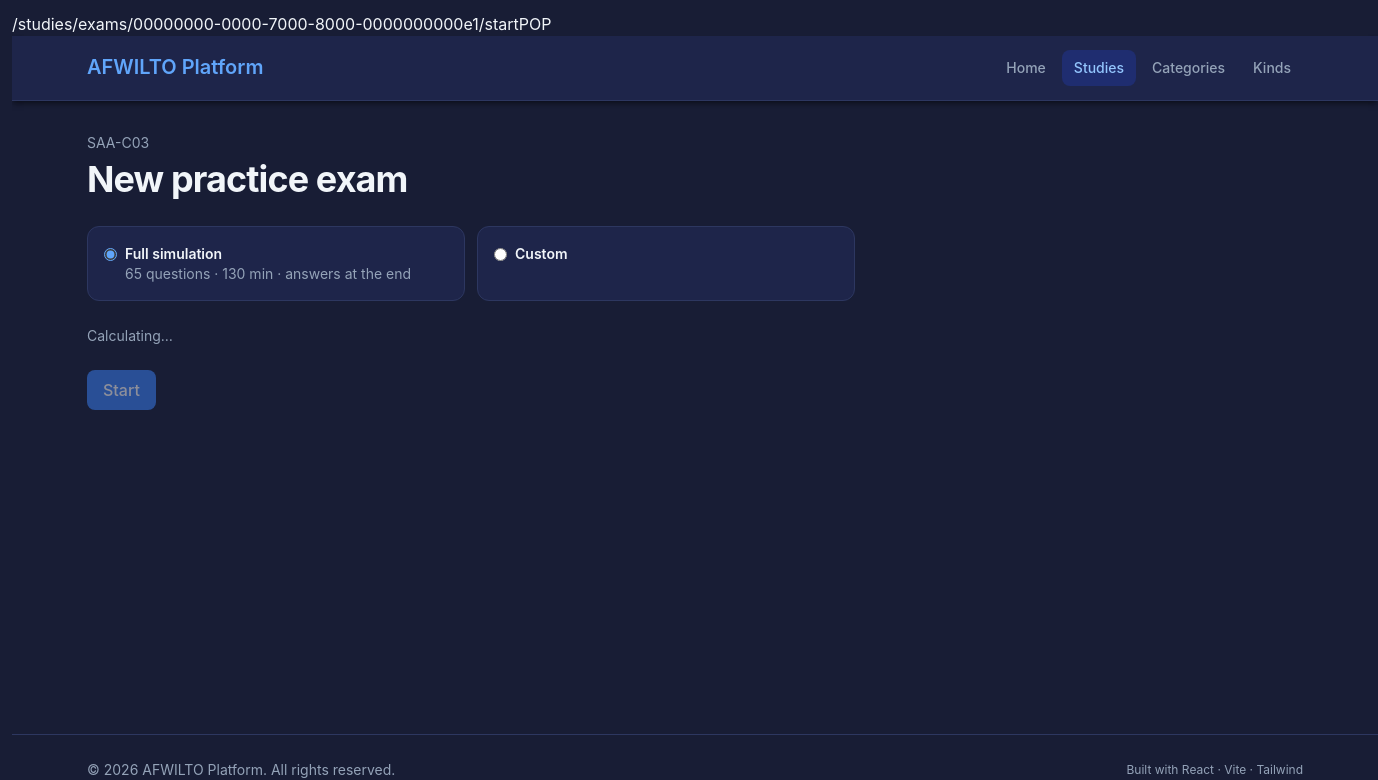
it: SessionSetupPage: the two modes (FR-7) › "Custom" offers the selection, the timing and the feedback choices
This screenshot has width=1378, height=780.
Expected: the radio button labelled "Full simulation 65 questions · 130 min · answers at the end" is shown, [104,248,117,261]
Click the radio button labelled "Custom".
click(500, 254)  # box [494,248,507,261]
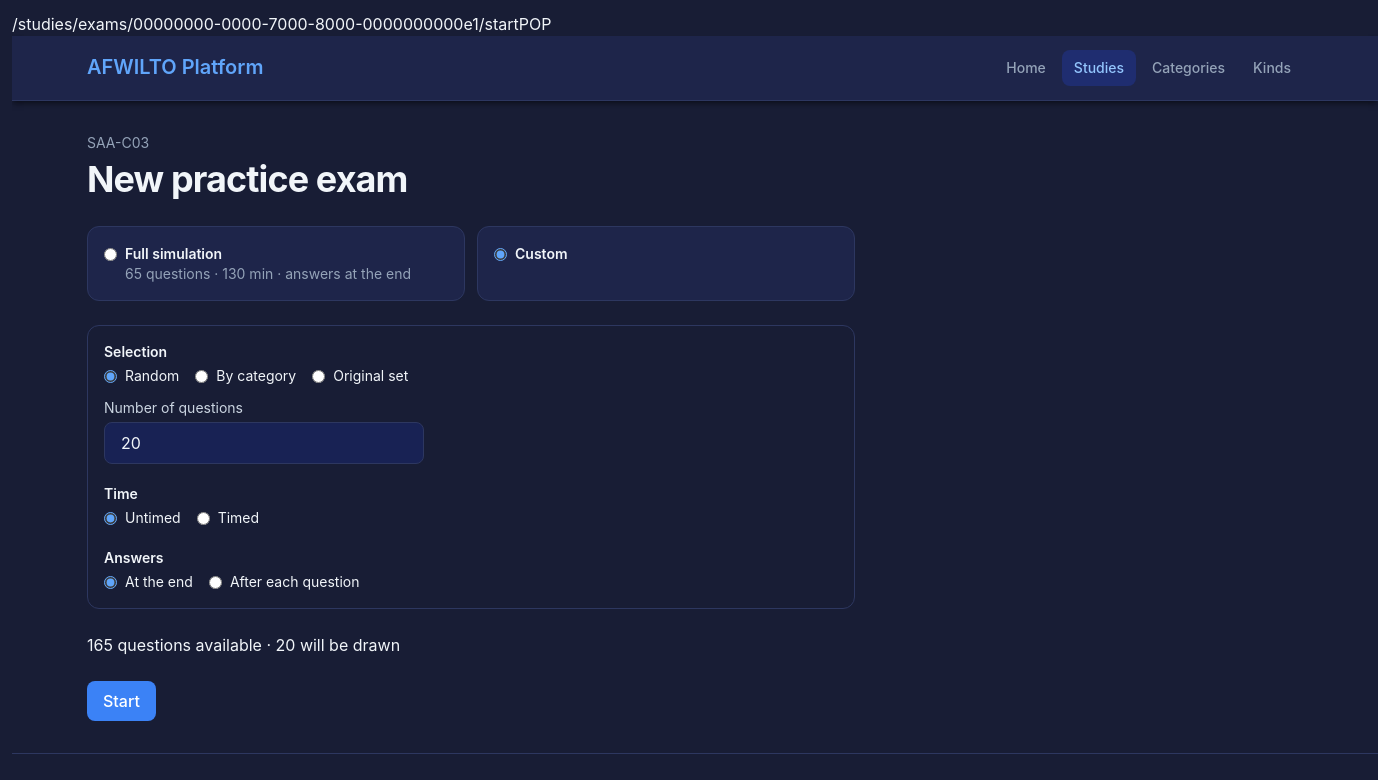
Expected: the radio button labelled "Random" is shown, [104,370,117,383]
Expected: the radio button labelled "By category" is shown, [195,370,208,383]
Expected: the radio button labelled "Original set" is shown, [312,370,325,383]
